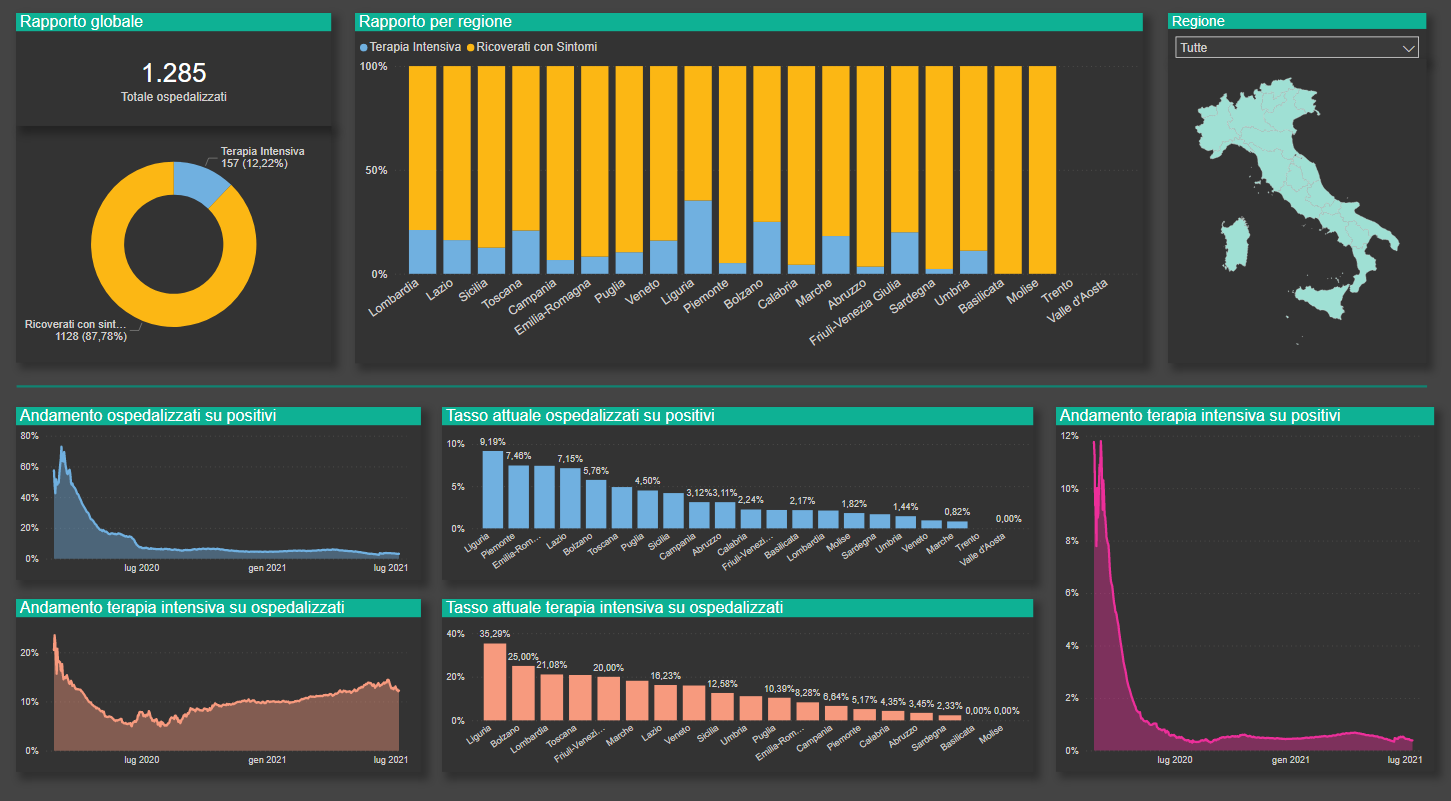

This screenshot's page, from the dashboard's own definition file:
{"tool":"powerbi","page":{"name":"Dashboard Ricoverati","canvas":[1920,1080],"ordinal":1},"visuals":[{"type":"hundredPercentStackedColumnChart","title":"Rapporto per regione","fields":{"Y":["Trends Regioni.__terapia_intensiva","Trends Regioni.__ricoverati_con_sintomi"],"Category":["Popolazione.denominazione_regione"]},"box":[471.4,20.7,1039.5,461.7],"z":0},{"type":"basicShape","box":[14.5,498.4,1879.8,30.4],"z":1000},{"type":"slicer","title":"Regione","fields":{"Values":["Popolazione.denominazione_regione"]},"box":[1542.6,20.7,341.4,60.8],"z":2000},{"type":"shapeMap","fields":{"Category":["Popolazione.denominazione_regione"]},"box":[1542.6,81.6,341.4,400.9],"z":3000},{"type":"clusteredColumnChart","title":"Tasso attuale terapia intensiva su ospedalizzati","fields":{"Y":["Trends Regioni.__tasso_terapia_intensiva"],"Category":["Popolazione.denominazione_regione"]},"box":[586.1,793.4,779.6,228.1],"z":4000},{"type":"areaChart","title":"Andamento ospedalizzati su positivi","fields":{"Category":["Data.data.Variazione.Date Hierarchy.Year","Data.data.Variazione.Date Hierarchy.Quarter","Data.data.Variazione.Date Hierarchy.Month","Data.data.Variazione.Date Hierarchy.Day"],"Y":["Trends Regioni.__tasso_ospedalizzati"]},"box":[23.5,540.5,533.6,228.1],"z":5000},{"type":"areaChart","title":"Andamento terapia intensiva su ospedalizzati","fields":{"Category":["Data.data.Variazione.Date Hierarchy.Year","Data.data.Variazione.Date Hierarchy.Quarter","Data.data.Variazione.Date Hierarchy.Month","Data.data.Variazione.Date Hierarchy.Day"],"Y":["Trends Regioni.__tasso_terapia_intensiva"]},"box":[23.5,793.4,533.6,228.1],"z":6000},{"type":"donutChart","title":"Rapporto globale","fields":{"Y":["Trends Regioni.__terapia_intensiva","Trends Regioni.__ricoverati_con_sintomi"]},"box":[23.5,170,416.1,312.4],"z":7000},{"type":"card","title":"Rapporto globale","fields":{"Values":["Trends Regioni.__attuale_totale_ospedalizzati"]},"box":[23.5,20.7,416.1,149.3],"z":8000},{"type":"clusteredColumnChart","title":"Tasso attuale ospedalizzati su positivi","fields":{"Category":["Popolazione.denominazione_regione"],"Y":["Trends Regioni.__tasso_ospedalizzati"]},"box":[586.1,540.5,779.6,228.1],"z":9000},{"type":"areaChart","title":"Andamento terapia intensiva su positivi","fields":{"Y":["Trends Regioni.t1"],"Category":["Trends Regioni.data"]},"box":[1394.7,540.5,499,481],"z":10000}]}

Visuals, with their boxes in screenshot pixels (x1, y1, x2, y2), scaled from the page's 1920x1080 canvas onto the 1451x801 screenshot:
"Rapporto per regione" hundredPercentStackedColumnChart: <bbox>356, 15, 1142, 358</bbox>
basicShape: <bbox>11, 370, 1432, 392</bbox>
"Regione" slicer: <bbox>1166, 15, 1424, 60</bbox>
shapeMap - Popolazione.denominazione_regione: <bbox>1166, 61, 1424, 358</bbox>
"Tasso attuale terapia intensiva su ospedalizzati" clusteredColumnChart: <bbox>443, 588, 1032, 758</bbox>
"Andamento ospedalizzati su positivi" areaChart: <bbox>18, 401, 421, 570</bbox>
"Andamento terapia intensiva su ospedalizzati" areaChart: <bbox>18, 588, 421, 758</bbox>
"Rapporto globale" donutChart: <bbox>18, 126, 332, 358</bbox>
"Rapporto globale" card: <bbox>18, 15, 332, 126</bbox>
"Tasso attuale ospedalizzati su positivi" clusteredColumnChart: <bbox>443, 401, 1032, 570</bbox>
"Andamento terapia intensiva su positivi" areaChart: <bbox>1054, 401, 1431, 758</bbox>
